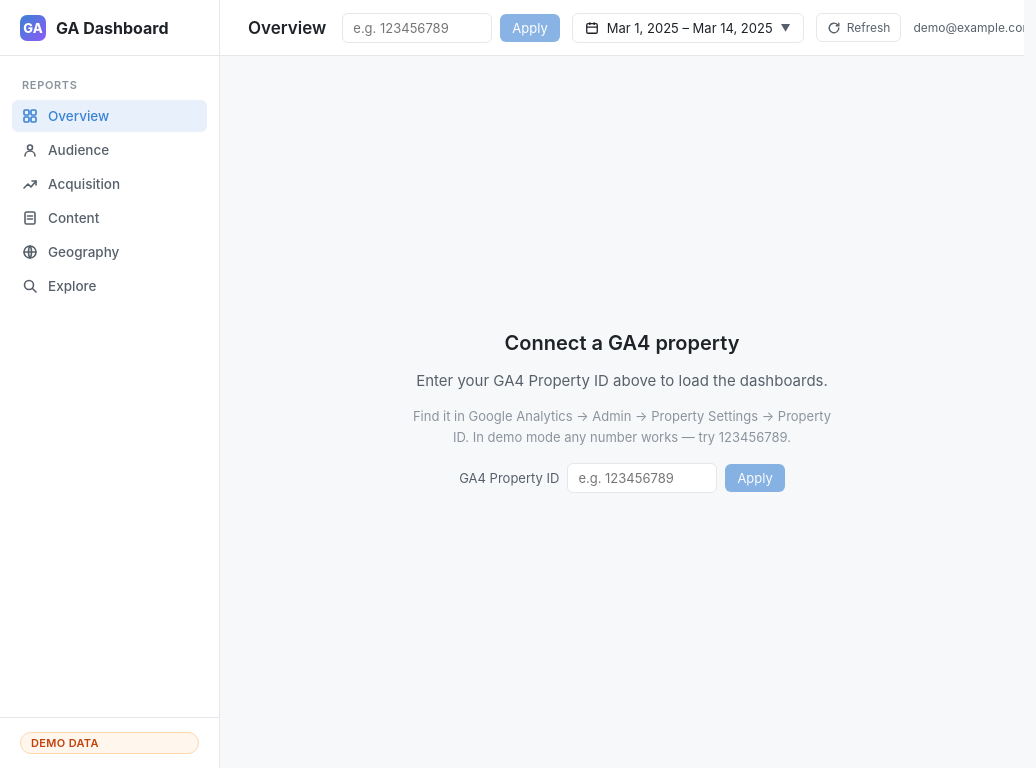
Test case: DashboardLayout › shows the empty state until a property is entered, then the page
The width and height of the screenshot is (1036, 768).
Expected: the text "Connect a GA4 property" is shown, [505,331,739,355]
Expected: the text "Overview content" is not shown
Type "42" into the field labelled "GA4 Property ID" at [417, 28], box [342,12,492,42]
Then press Enter
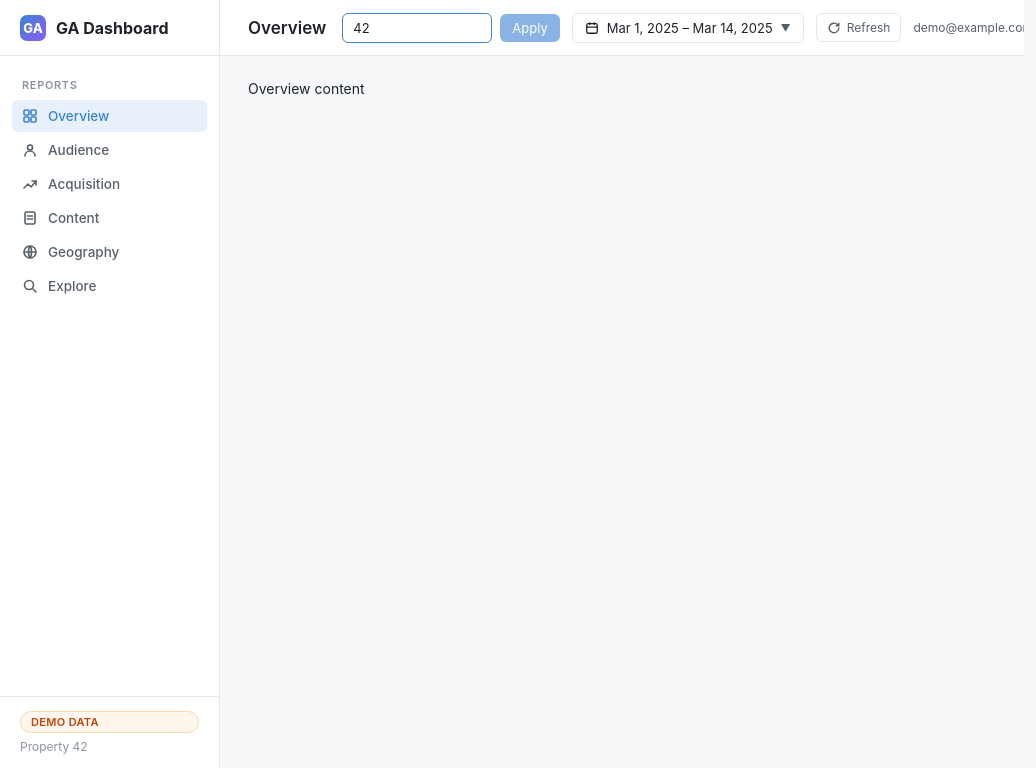
Expected: the text "Overview content" is shown, [248,80,365,97]
Expected: the text "Property 42" is shown, [20,739,88,754]
